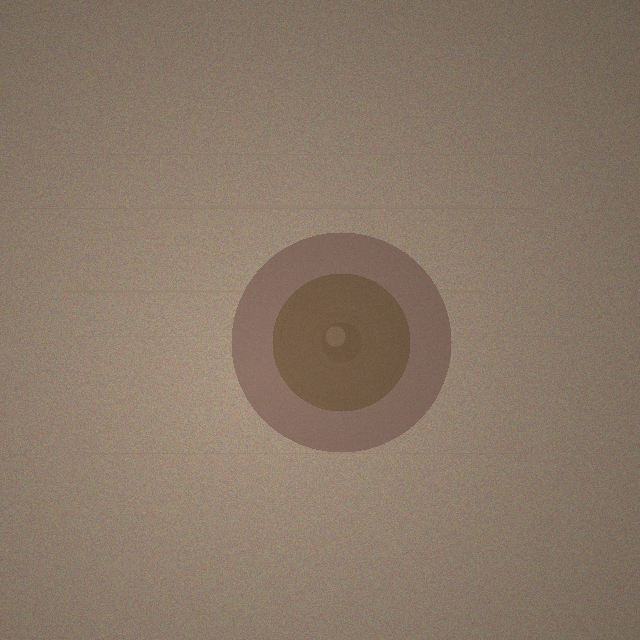good: (231, 232, 451, 452)
